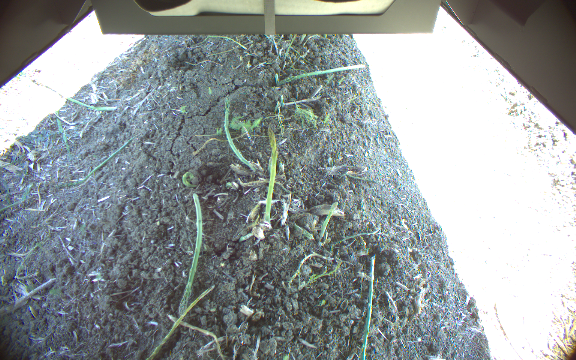aspa: (262, 126, 279, 230), (318, 201, 339, 240)
